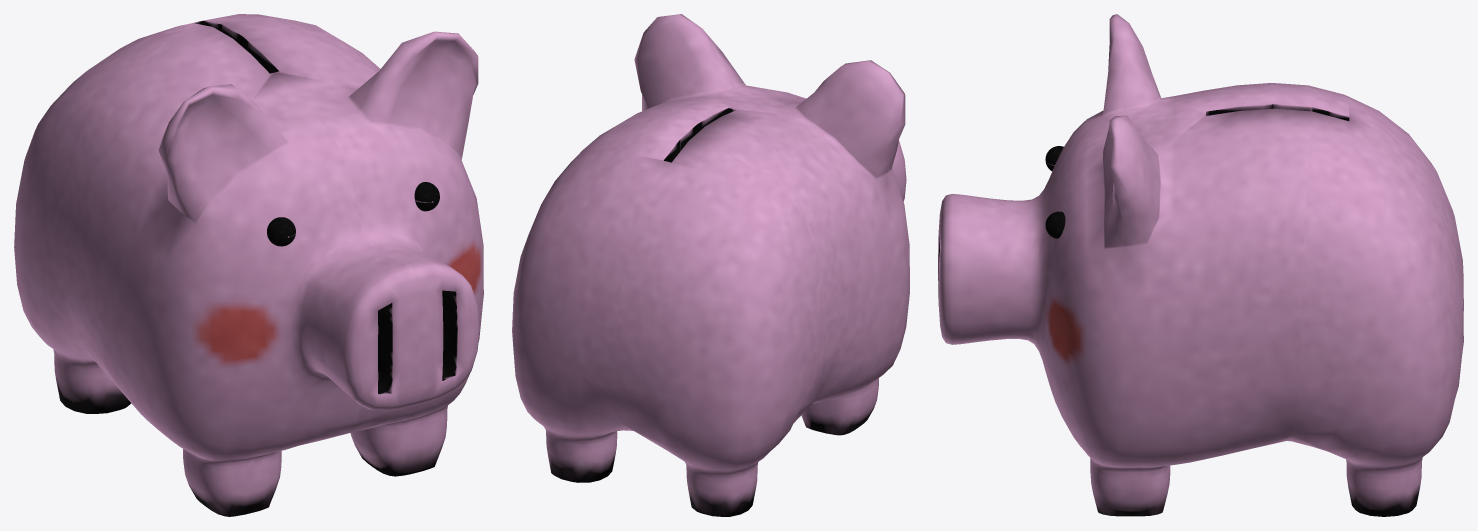
File: piggy bank.fbx
3 renders of one model, left to right at view 1: azimuth 30°, elevation 25°; view 2: azimuth 150°, elevation 25°; view 3: azimuth 270°, elevation 25°, orthographic. The views are drawn at different scales.
Parts seen in each view (by area): view 1: piggy bank; view 2: piggy bank; view 3: piggy bank.
Boxes of the visible parts, x1=… form: piggy bank: x1=14, y1=14, x2=483, y2=516; piggy bank: x1=512, y1=14, x2=909, y2=516; piggy bank: x1=938, y1=14, x2=1463, y2=516.
Size of the model in its own units: 196 by 247 by 295.
